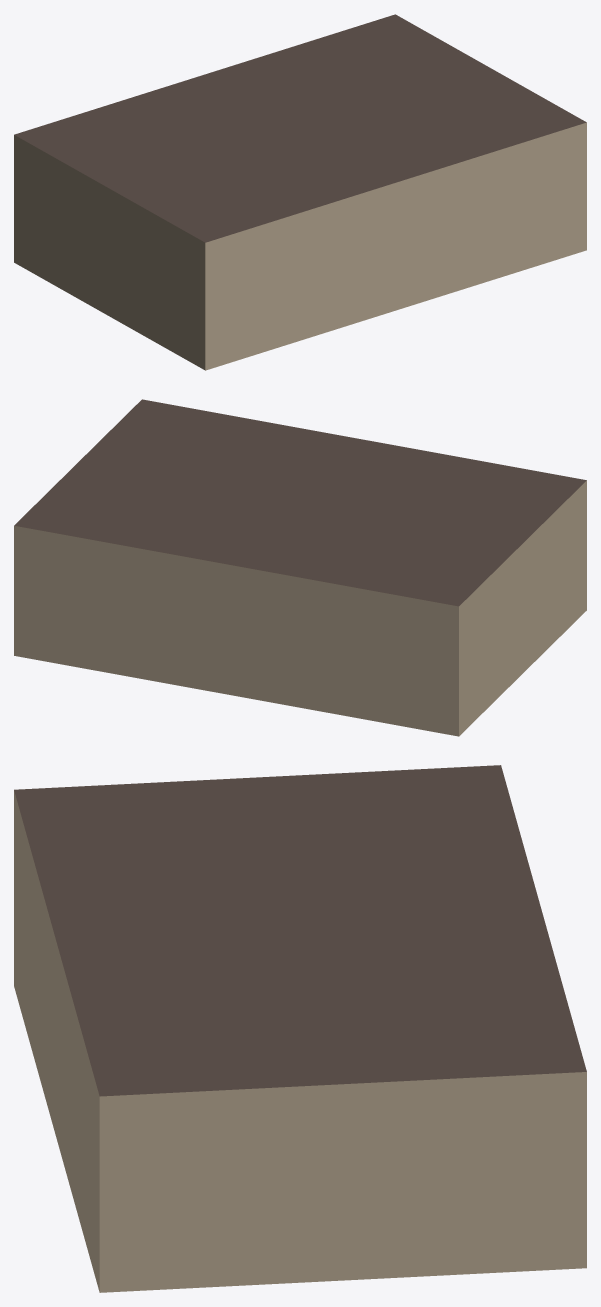
3 views of the same model, one above another, from view 1: azimuth 30°, elevation 25°; view 2: azimuth 150°, elevation 25°; view 3: azimuth 270°, elevation 25° (orthographic). The views are drawn at different scales.
Parts seen in each view (by area): view 1: HP-w859467746; view 2: HP-w859467746; view 3: HP-w859467746.
Part boxes in pixels (x1,y1,x2,y2): HP-w859467746: (14, 14, 586, 370); HP-w859467746: (14, 399, 586, 736); HP-w859467746: (14, 765, 586, 1292).
Size of the model in its own units: 32.58 by 9 by 23.8.
